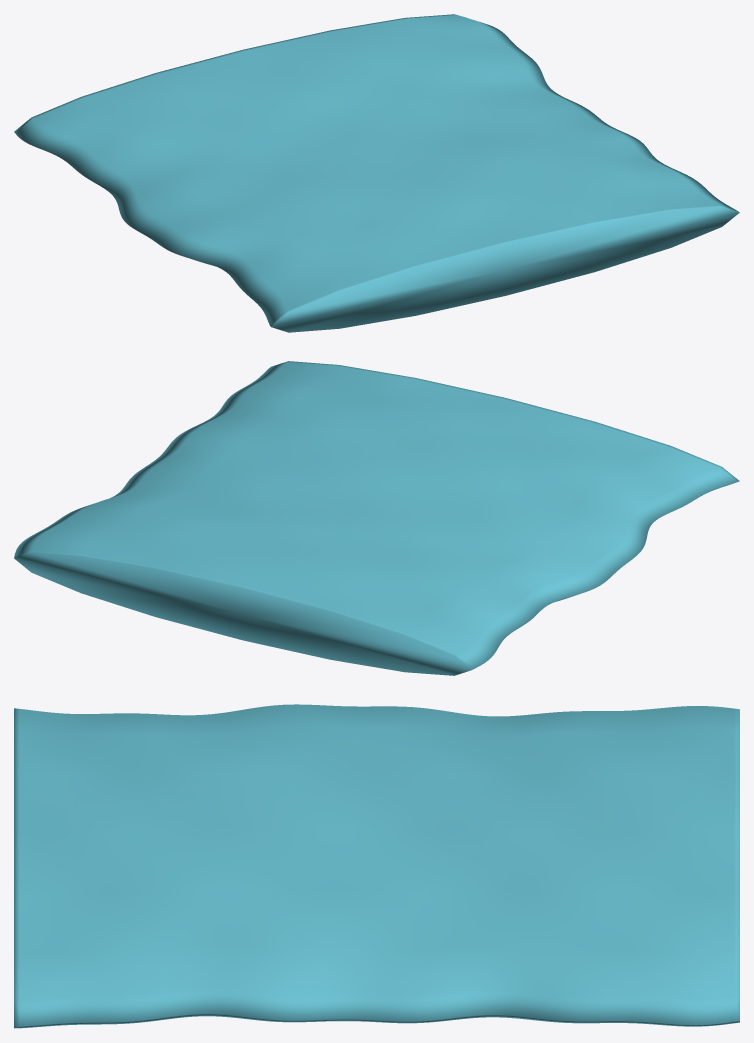
File: candy-river-volume.glb
3 renders of one model, top to bottom at view 1: azimuth 30°, elevation 25°; view 2: azimuth 150°, elevation 25°; view 3: azimuth 270°, elevation 25°, orthographic. The views are drawn at different scales.
Parts seen in each view (by area): view 1: Closed domed river ribbon; view 2: Closed domed river ribbon; view 3: Closed domed river ribbon.
Boxes of the visible parts, left/top/right/bottom form: Closed domed river ribbon: left=14, top=14, right=739, bottom=332; Closed domed river ribbon: left=14, top=361, right=739, bottom=675; Closed domed river ribbon: left=14, top=704, right=739, bottom=1028.
Bounding box in the file's own units: 1.05 × 0.118 × 1.
